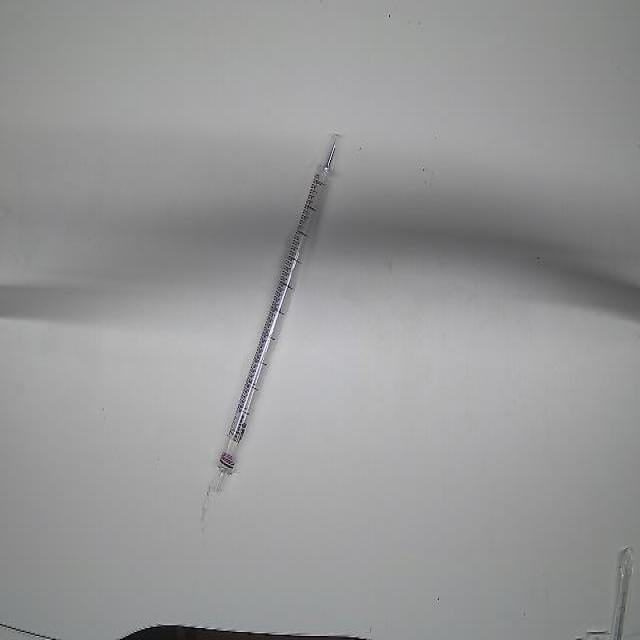Serelogical Pipet 50 mL: (214, 124, 349, 497)
